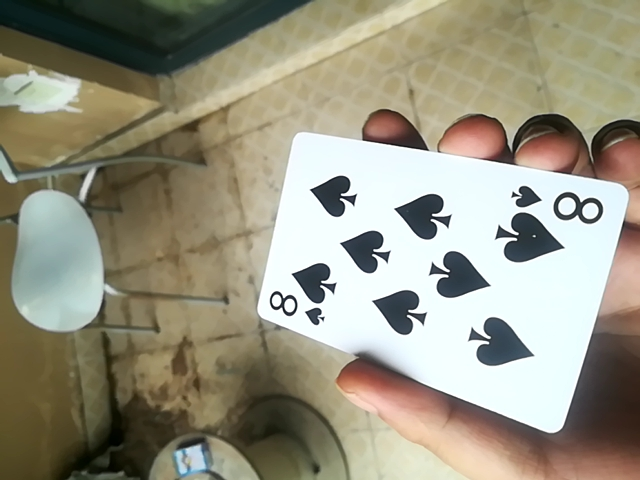ht 8: (254, 127, 633, 435)
